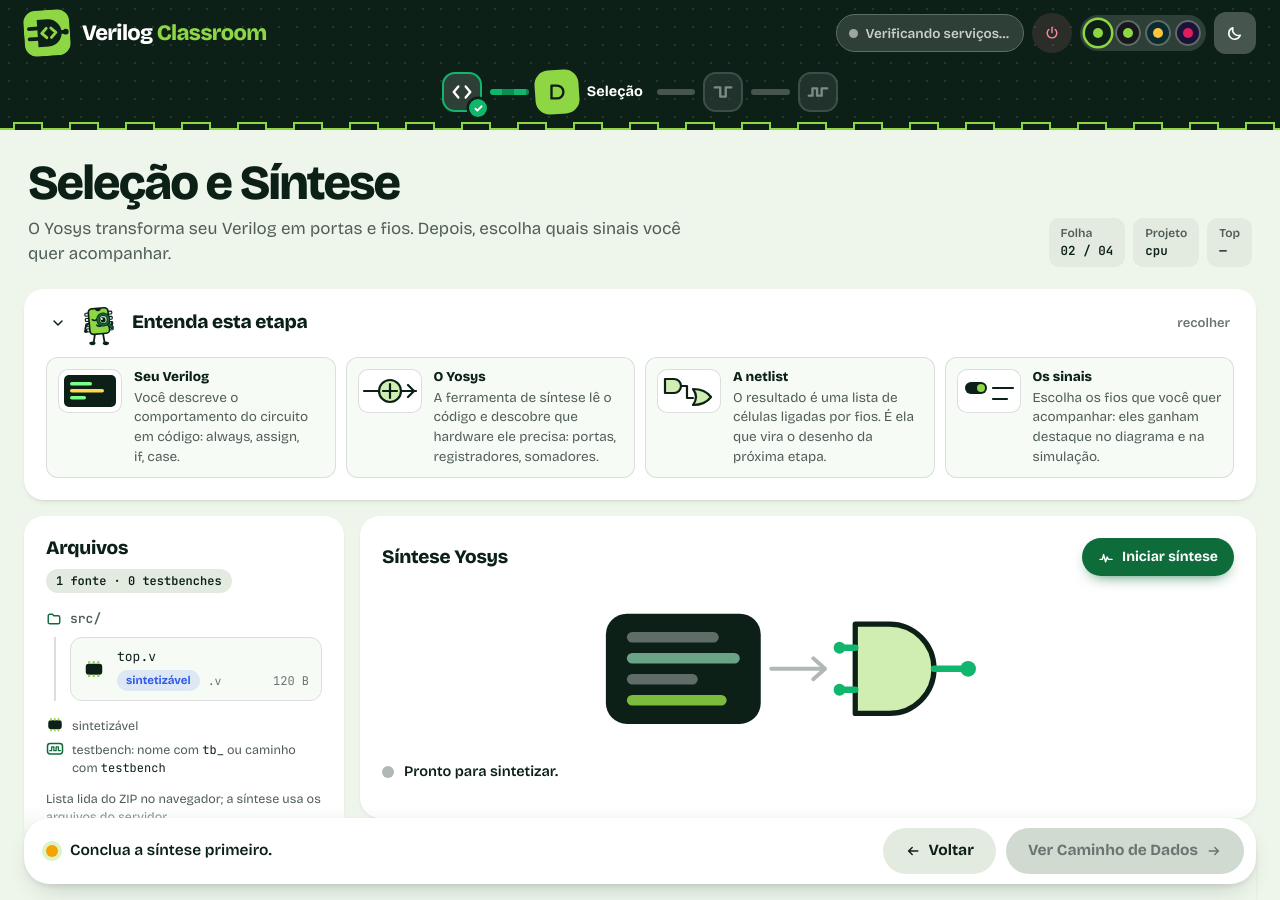
Test: Tela 2b — escolha explícita do top (#27) › "Sintetizar novamente" repete o top escolhido e "Usar top automático" volta ao auto-top
The image size is (1280, 900).
Click the button "Iniciar síntese": click(1158, 557) top-left (1082, 538), bottom-right (1234, 576)
(page scrolled)
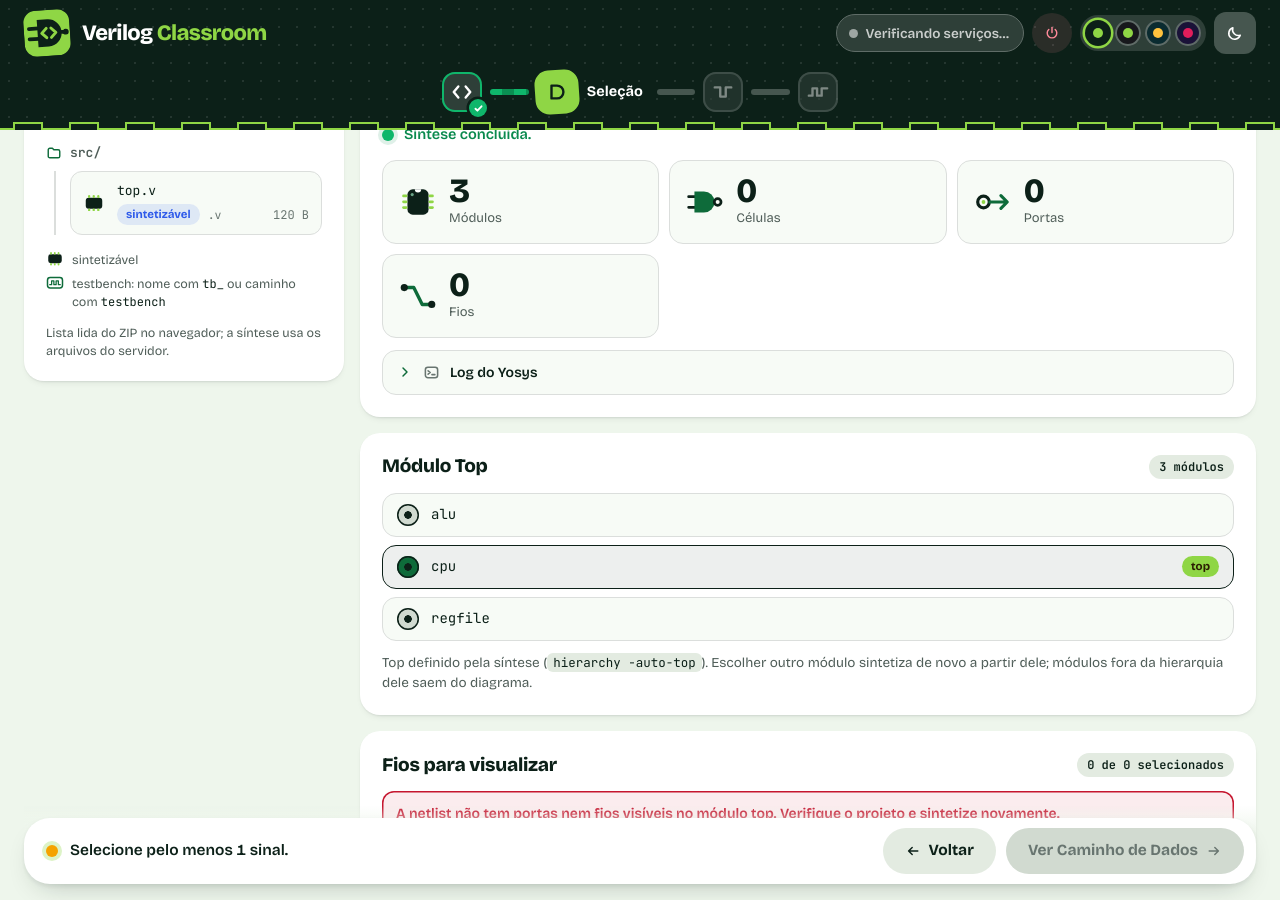
Expected: the list named "Módulos encontrados na netlist" is shown, top-left (382, 492), bottom-right (1234, 640)
Click the radio button labelled "alu": click(408, 514) top-left (397, 504), bottom-right (419, 526)
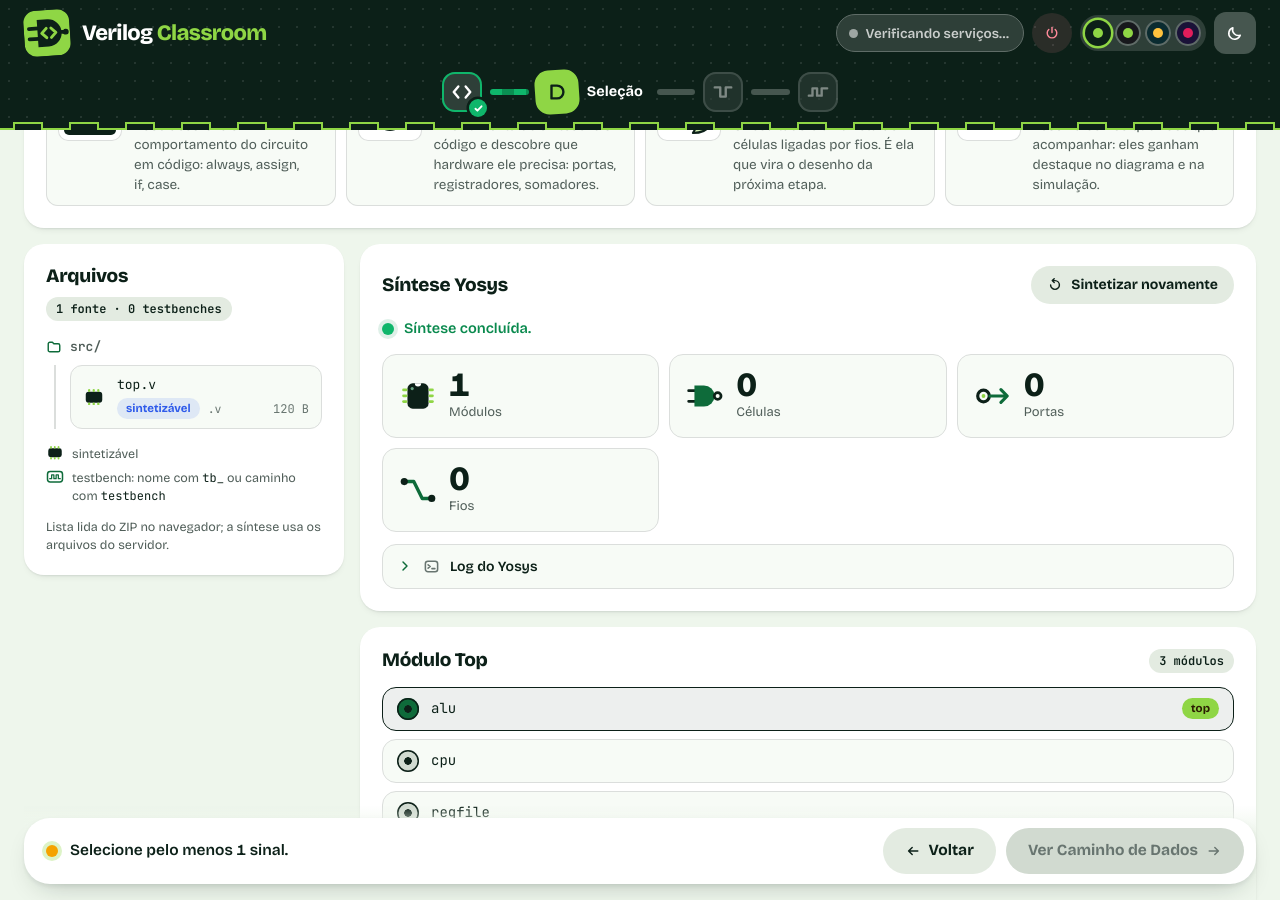
Click the button "Sintetizar novamente": click(1133, 285) top-left (1031, 266), bottom-right (1234, 304)
(page scrolled)
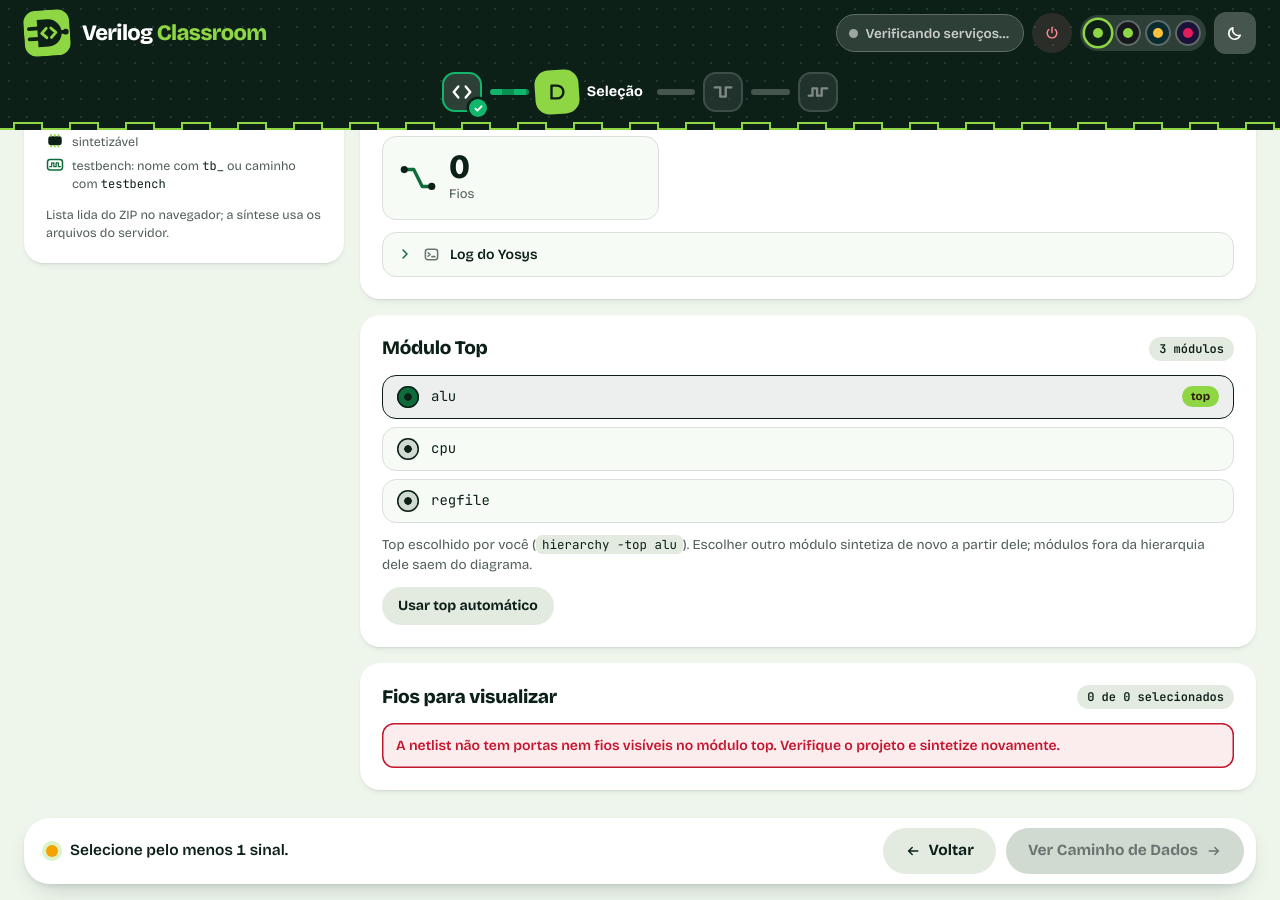
Expected: the text "hierarchy -top alu" is shown, top-left (536, 534), bottom-right (683, 554)
Click the button "Usar top automático": click(468, 606) top-left (382, 587), bottom-right (554, 625)
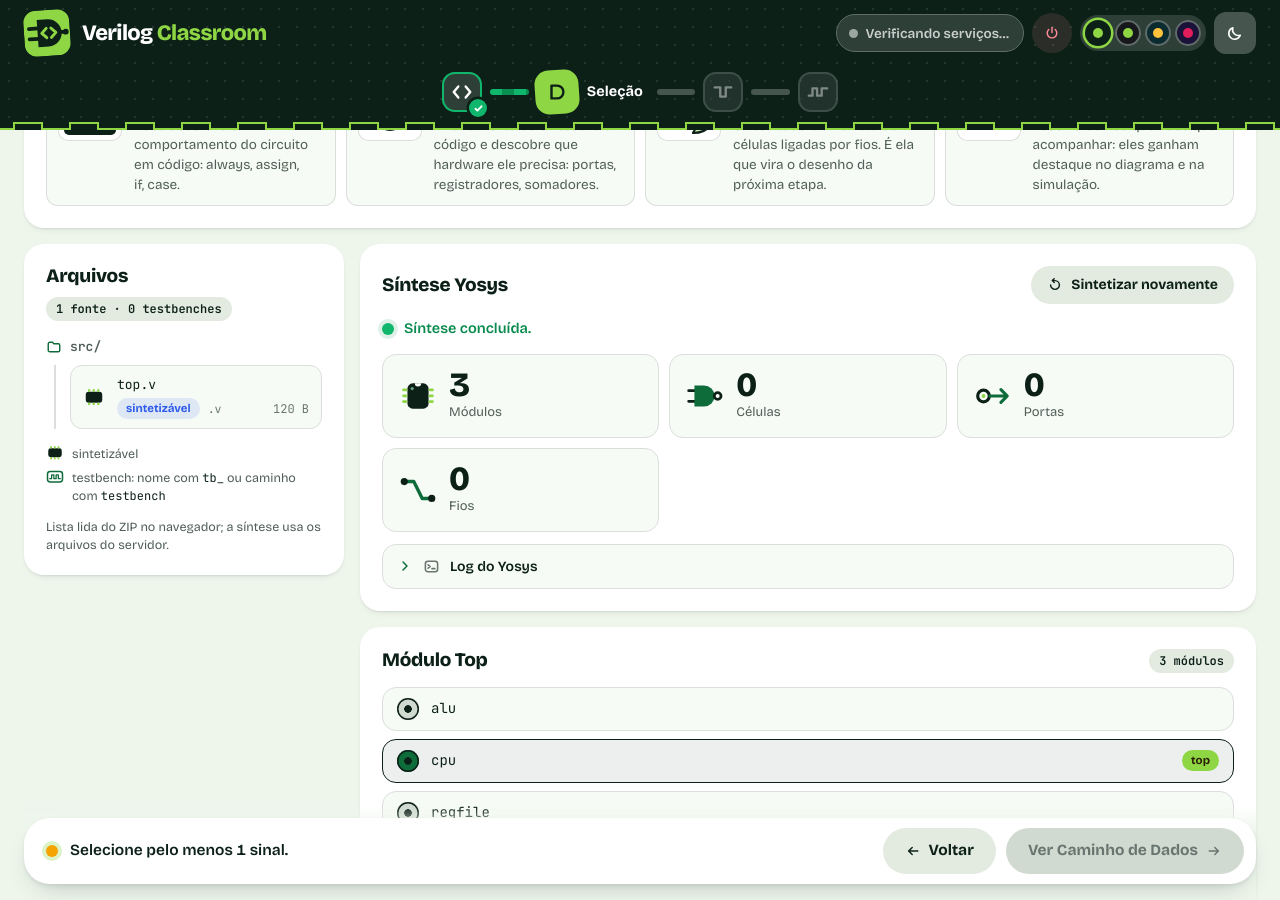
Expected: the radio button labelled "cpu" is checked, top-left (397, 750), bottom-right (419, 772)
Expected: the button "Usar top automático" is gone
